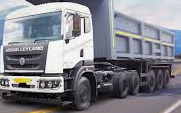truck: (1, 1, 174, 109)
